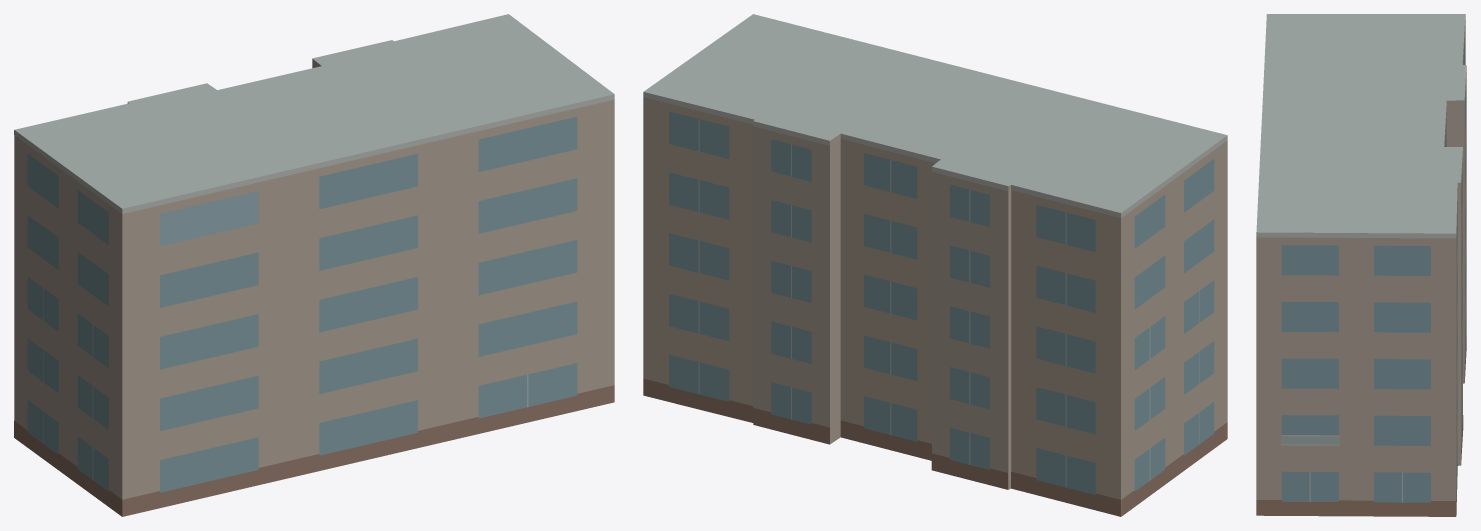
Rendered from survey-upis-32943879.glb.
The picture shows the model from 3 angles, left to right: view 1: azimuth 30°, elevation 25°; view 2: azimuth 150°, elevation 25°; view 3: azimuth 270°, elevation 25°; orthographic projection. The views are drawn at different scales.
Parts seen in each view (by area): view 1: survey-upis-32943879.tmp; view 2: survey-upis-32943879.tmp; view 3: survey-upis-32943879.tmp.
Boxes of the visible parts, bbox=[...] form: survey-upis-32943879.tmp: bbox=[14, 14, 614, 516]; survey-upis-32943879.tmp: bbox=[643, 14, 1227, 516]; survey-upis-32943879.tmp: bbox=[1256, 14, 1466, 516].
Size of the model in its own units: 23.8 by 14.3 by 9.62.
